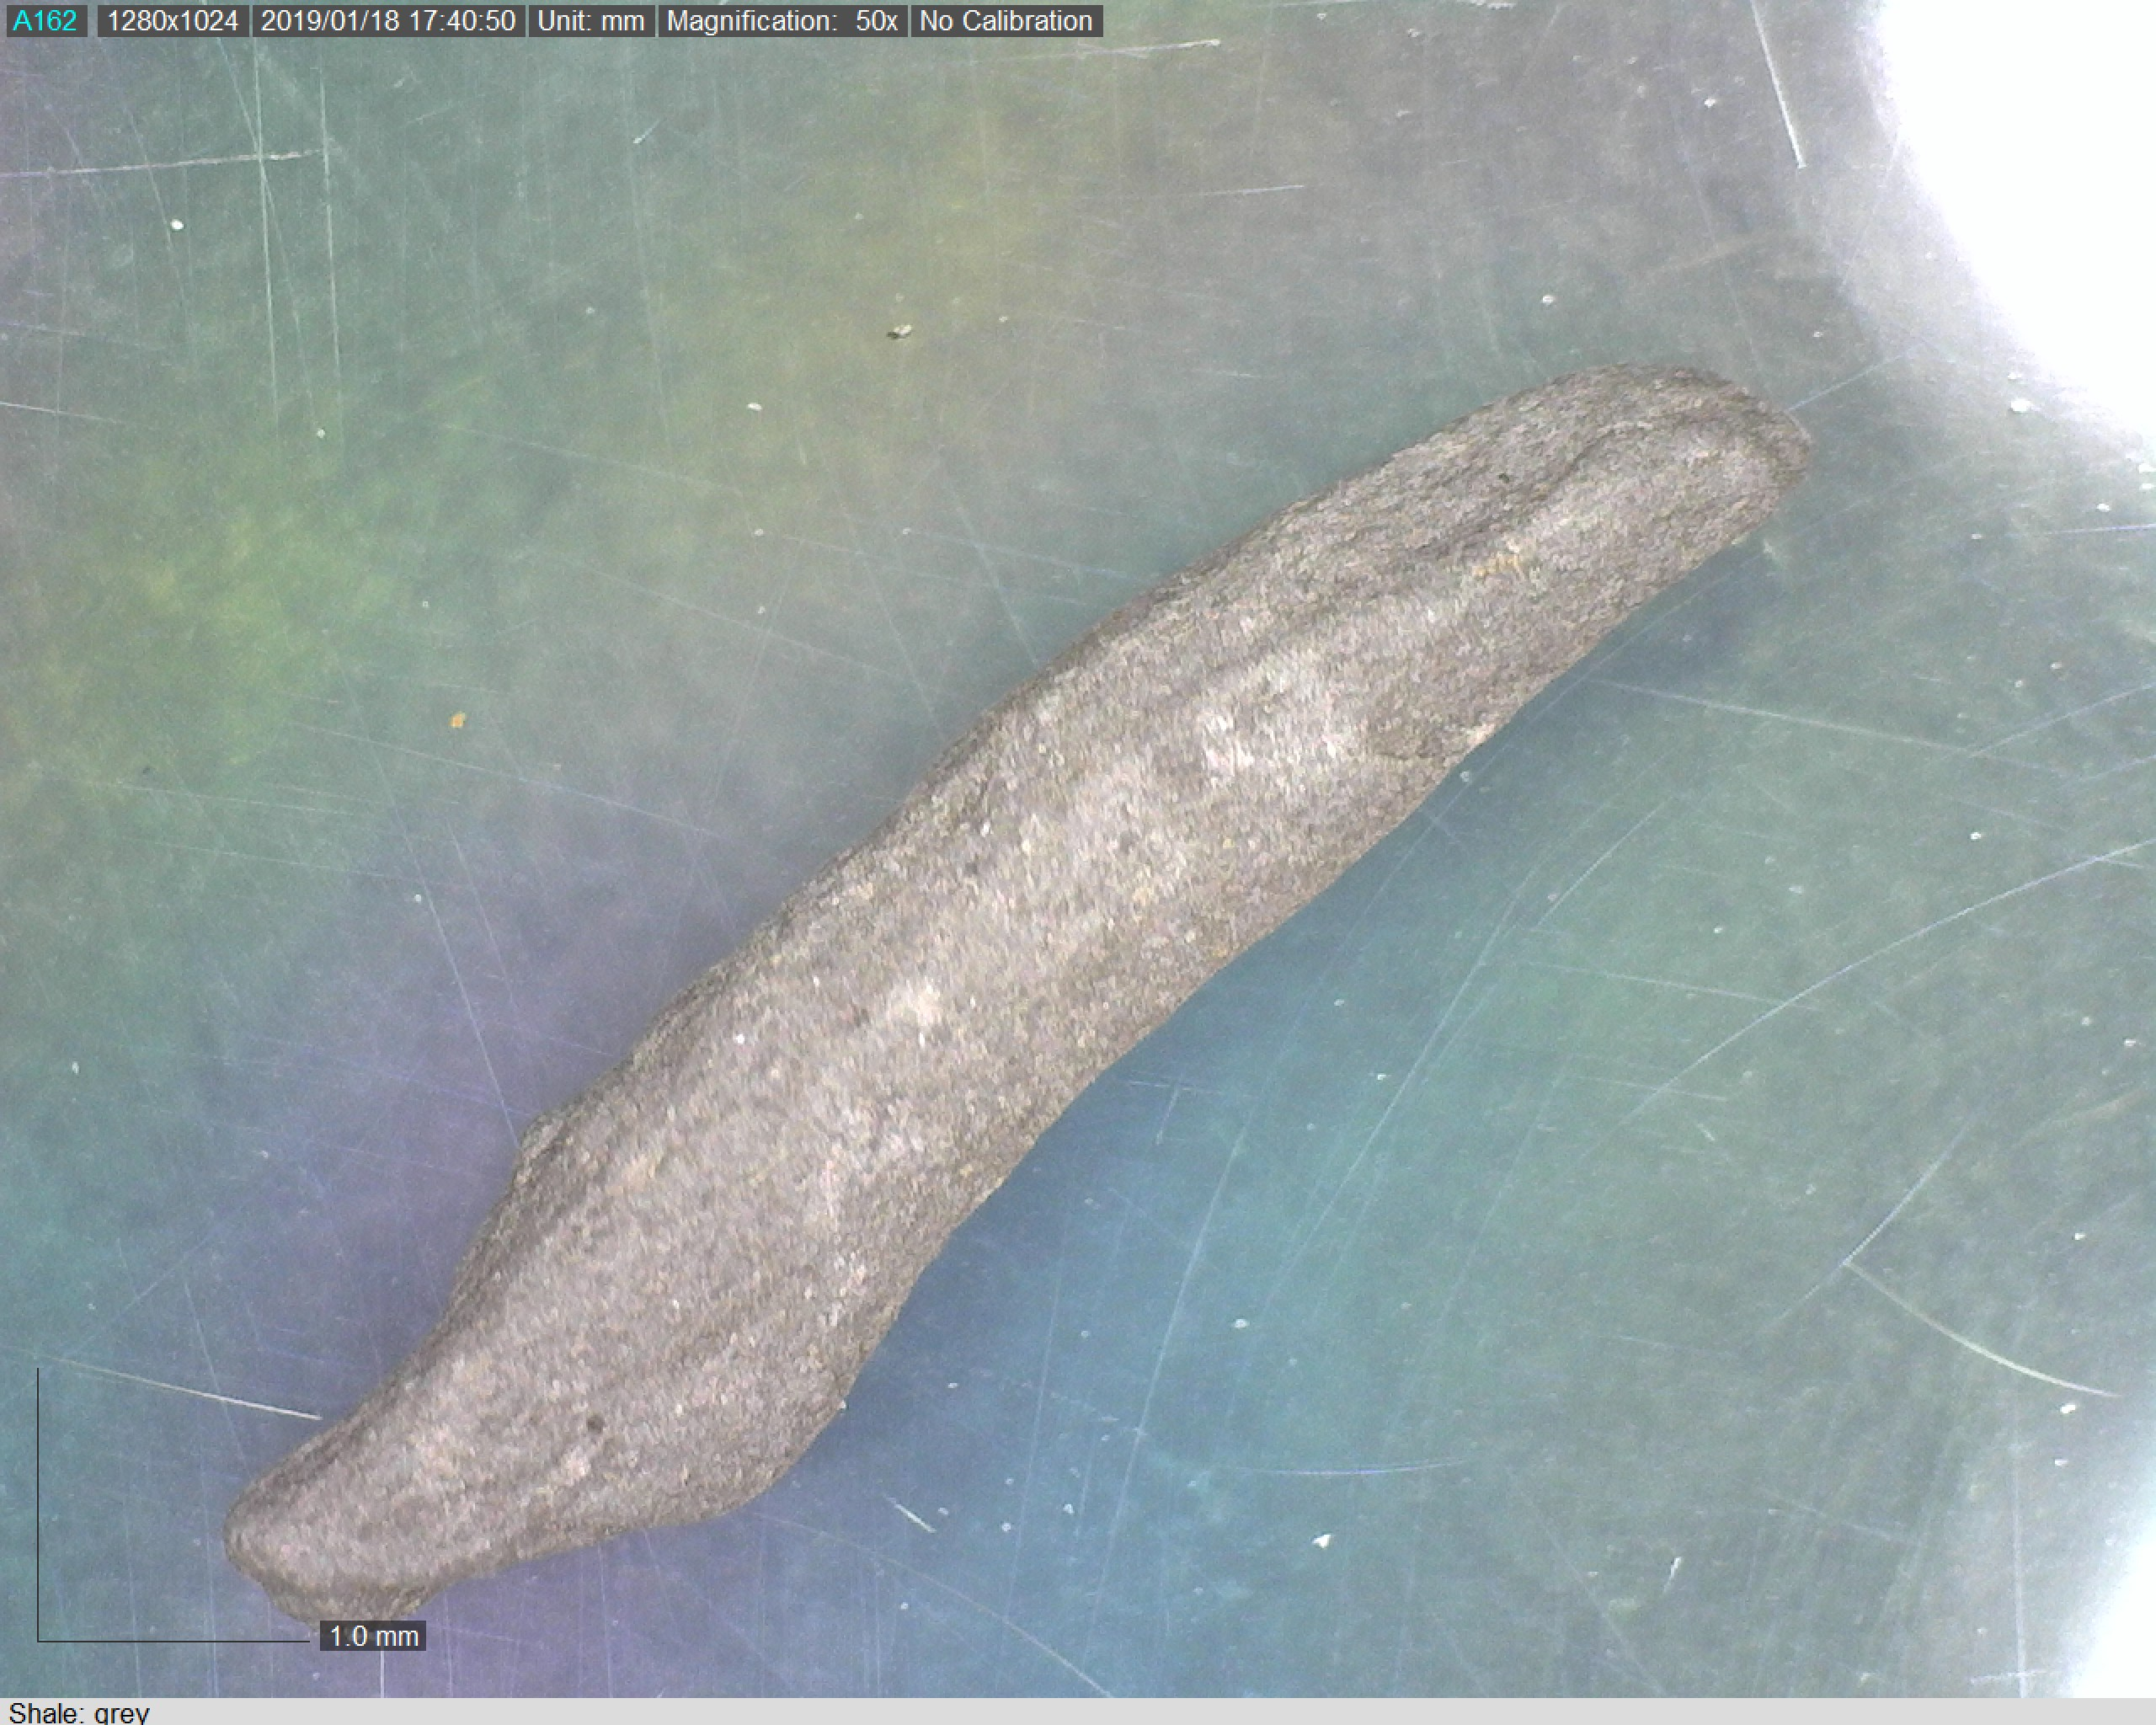Shale: (199, 352, 1823, 1658)
